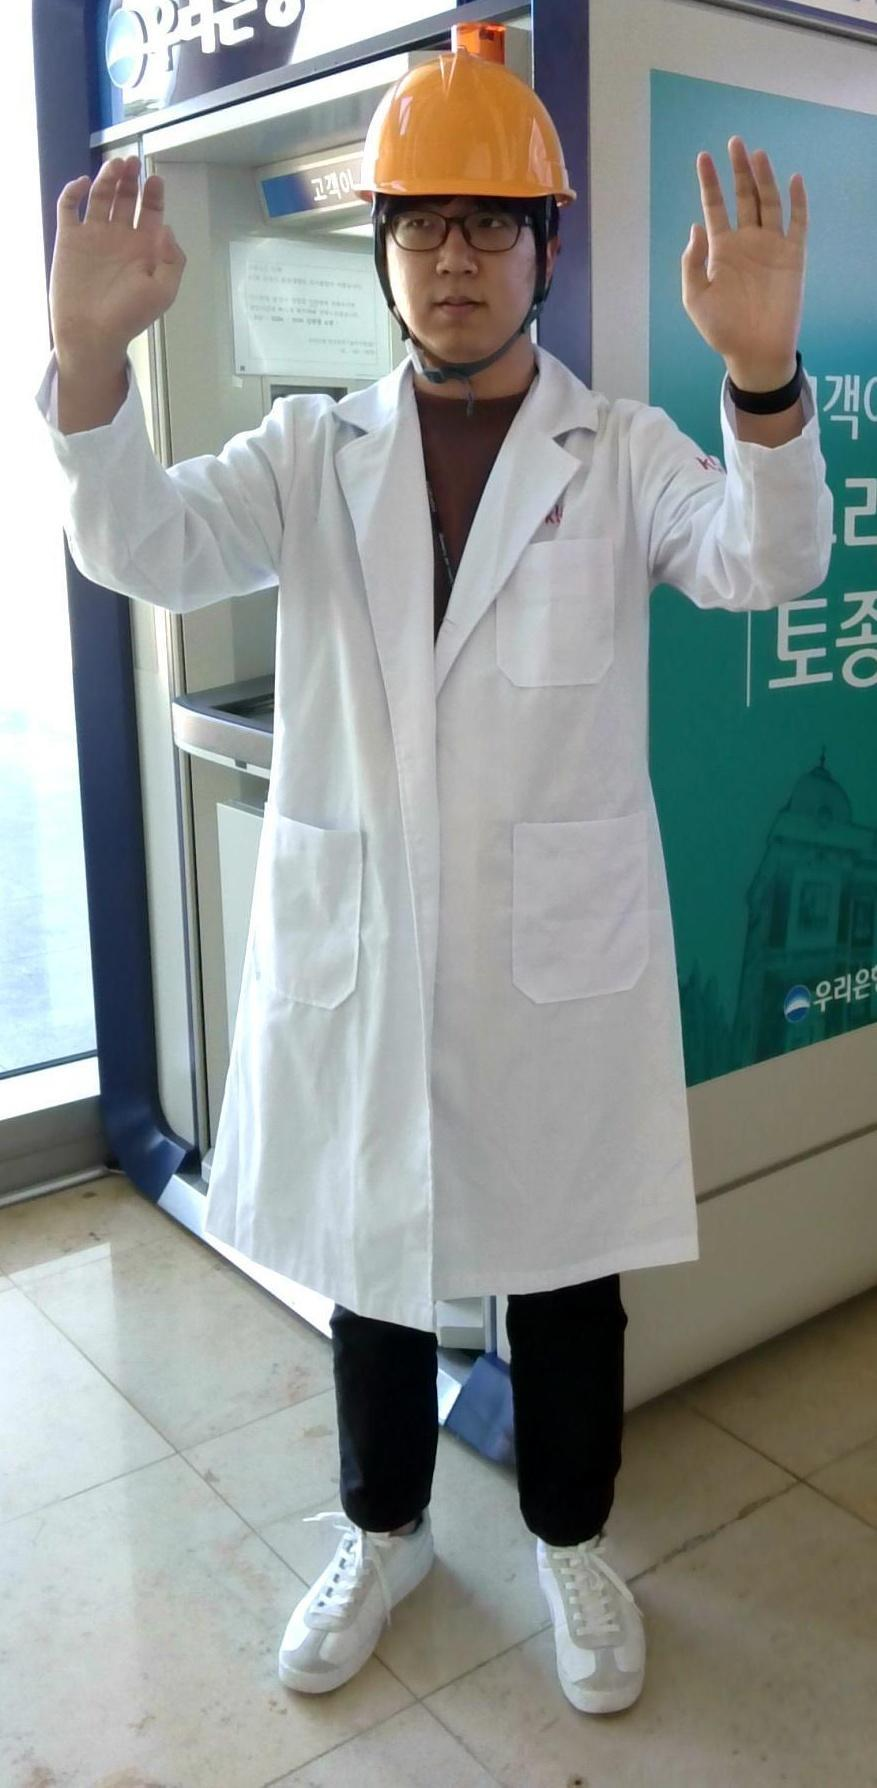lab_coat: (180, 407, 695, 1301)
